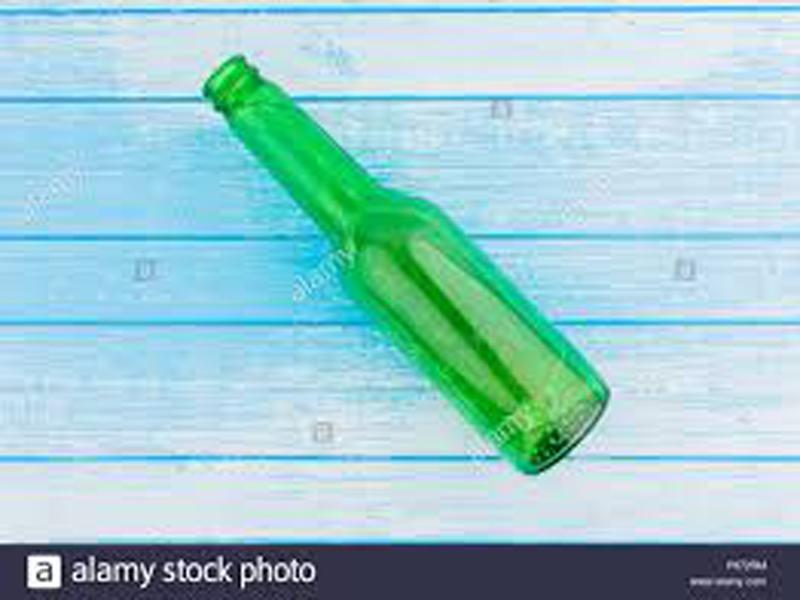Beer: (198, 53, 614, 481)
